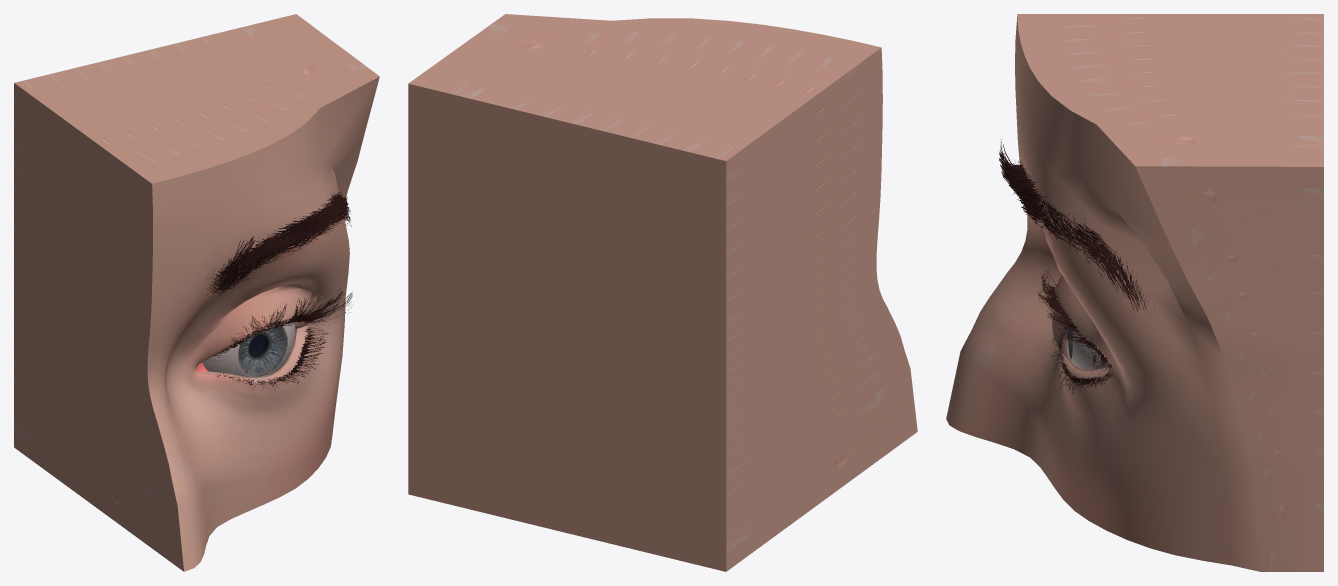
The model's file is 五官_写实眼睛02_opt.glb.
3 views of the same model, side by side, from view 1: azimuth 30°, elevation 25°; view 2: azimuth 150°, elevation 25°; view 3: azimuth 270°, elevation 25° (orthographic). The views are drawn at different scales.
Parts seen in each view (by area): view 1: face_face_skin_mat_0, eyelash_lower_eyebrow_mat_0, eye_03_eye_coat_lp_eye_03_eye_external_mat_0, eye_03_eye_high_eye_03_eye_internal_mat_0, eye_03_eye_high_eye_03_eye_internal_mat_0_1; view 2: face_face_skin_mat_0; view 3: face_face_skin_mat_0, eyelash_lower_eyebrow_mat_0, eye_03_eye_coat_lp_eye_03_eye_external_mat_0, eye_03_eye_high_eye_03_eye_internal_mat_0.
Boxes of the visible parts, box(x1,y1,x2,y2) form: face_face_skin_mat_0: box(14, 14, 379, 571); eyelash_lower_eyebrow_mat_0: box(207, 191, 352, 390); eye_03_eye_coat_lp_eye_03_eye_external_mat_0: box(203, 322, 296, 378); eye_03_eye_high_eye_03_eye_internal_mat_0: box(203, 322, 295, 377); eye_03_eye_high_eye_03_eye_internal_mat_0_1: box(204, 324, 294, 376); face_face_skin_mat_0: box(408, 14, 917, 571); face_face_skin_mat_0: box(946, 14, 1323, 571); eyelash_lower_eyebrow_mat_0: box(999, 139, 1154, 393); eye_03_eye_coat_lp_eye_03_eye_external_mat_0: box(1052, 311, 1109, 370); eye_03_eye_high_eye_03_eye_internal_mat_0: box(1067, 326, 1109, 369).
Bounding box in the file's own units: 0.2431 × 0.3 × 0.2536.
5 materials, 2 textured.
